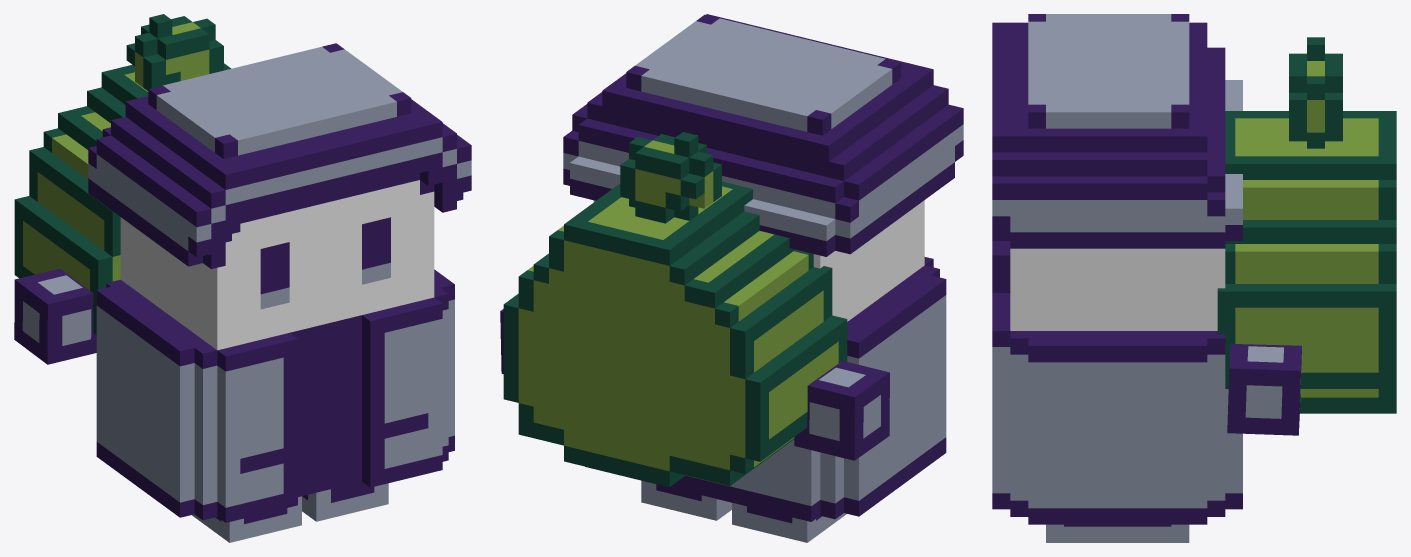
The model's file is p3_trash_hold_1.gltf.
The picture shows the model from 3 angles, left to right: view 1: azimuth 30°, elevation 25°; view 2: azimuth 150°, elevation 25°; view 3: azimuth 270°, elevation 25°; orthographic projection. The views are drawn at different scales.
Visible parts, largest first — view 1: Object_0.001, Object_0.004, Object_0.003; view 2: Object_0.001, Object_0.004, Object_0.003; view 3: Object_0.001, Object_0.004, Object_0.
Boxes of the visible parts, box(x1,y1,x2,y2) form: Object_0.001: box(88, 43, 471, 542); Object_0.004: box(14, 14, 231, 334); Object_0.003: box(14, 268, 96, 364); Object_0.001: box(563, 14, 963, 542); Object_0.004: box(503, 132, 847, 486); Object_0.003: box(794, 361, 889, 460); Object_0.001: box(992, 14, 1242, 542); Object_0.004: box(1217, 37, 1396, 413); Object_0: box(1227, 344, 1301, 435).
Size of the model in its own units: 2.35 by 2.76 by 2.26.
4 materials, 4 textured.
